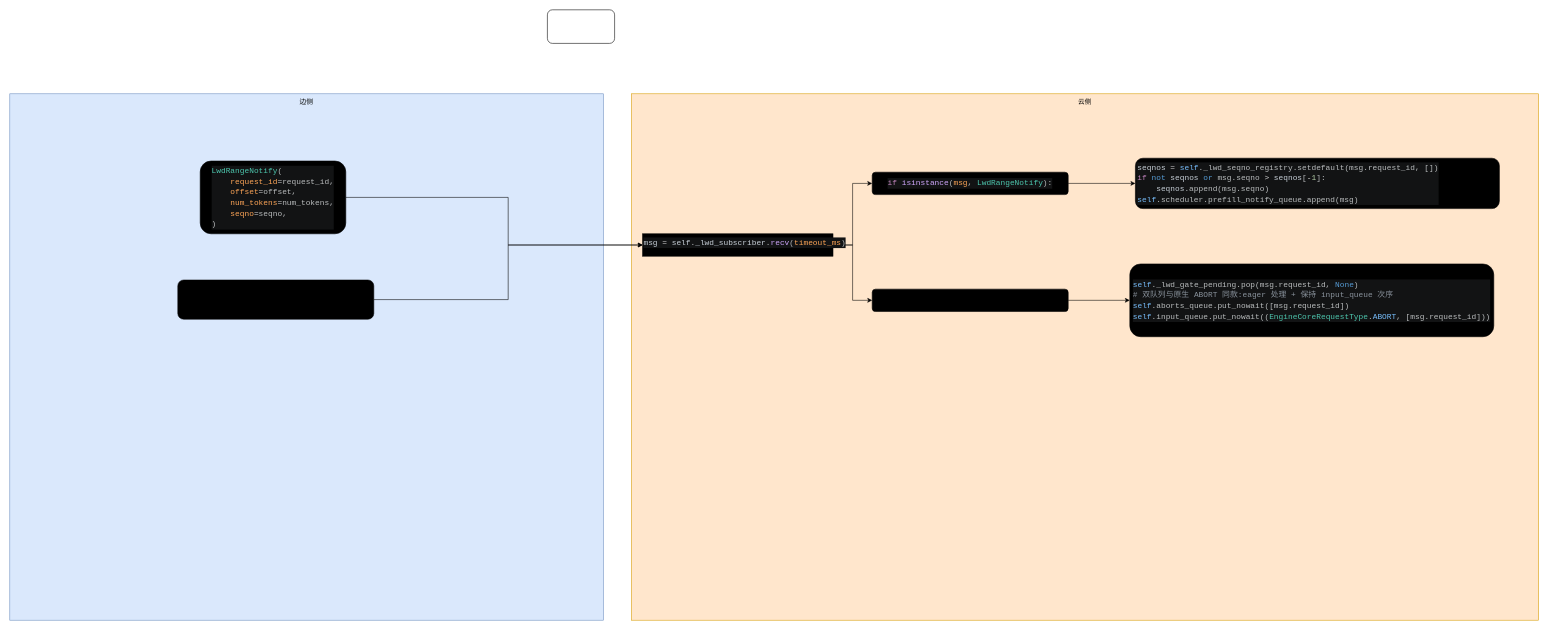
Some shapes in this 1548 by 630 pixel diagram are drawn without their labels. The shapes that lost their labels are listed below. From the top down, each one's centre as x and y in pixels, then its label:
[581,26]: 控制面消息- ZMQ
[275,299]: LwdAbortNotify ( request_id = request_id )
[970,300]: if isinstance ( msg , LwdAbortNotify ):
